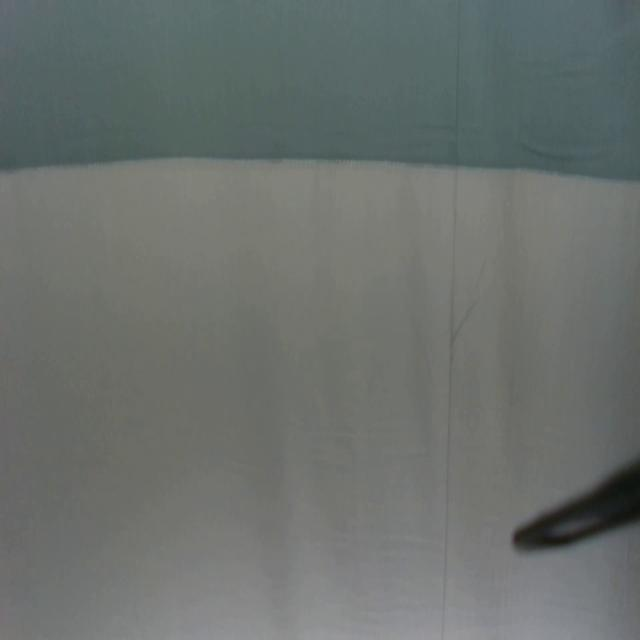crease: (440, 0, 463, 640)
